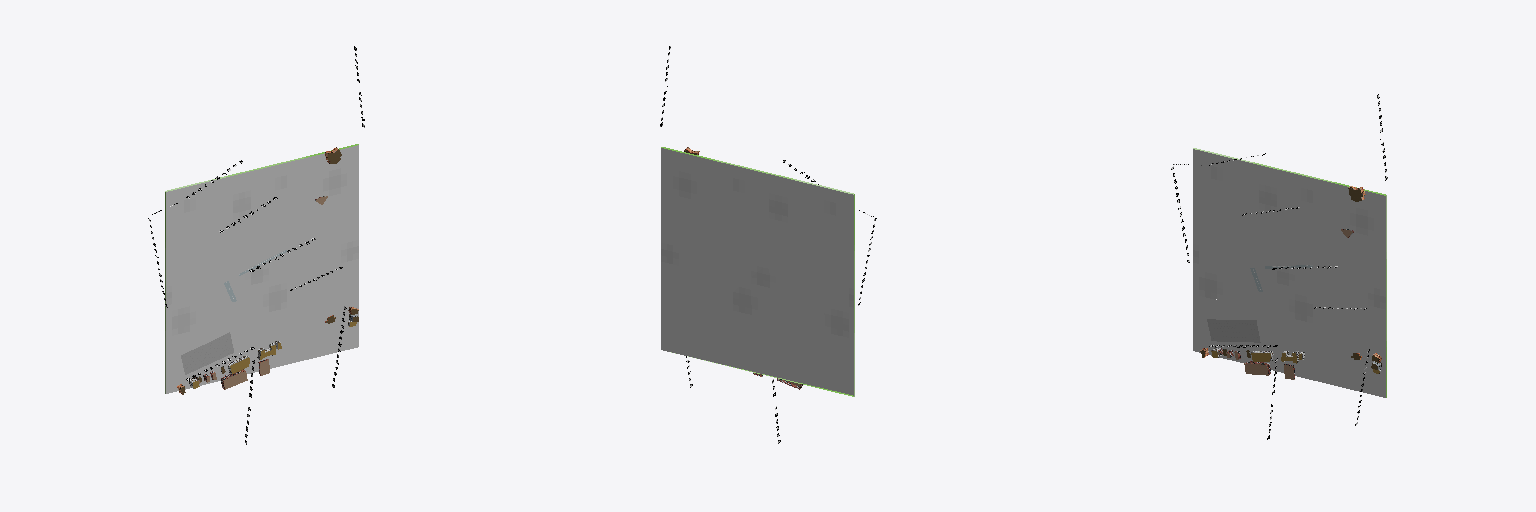
The picture shows the model from 3 angles: view 1: azimuth 30°, elevation 25°; view 2: azimuth 150°, elevation 25°; view 3: azimuth 330°, elevation 25°; orthographic projection.
Parts seen in each view (by area): view 1: POLYGON, BUILDING, FONT; view 2: POLYGON; view 3: POLYGON, BUILDING, FONT.
Part boxes in pixels (x1,y1,x2,y2): POLYGON: (165, 144, 358, 393); BUILDING: (177, 147, 358, 394); FONT: (148, 46, 364, 444); POLYGON: (661, 147, 854, 396); POLYGON: (1193, 148, 1386, 397); BUILDING: (1200, 186, 1381, 379); FONT: (1171, 94, 1387, 439).
Size of the model in its own units: 678 by 1129 by 29.
4 materials, 4 textured.